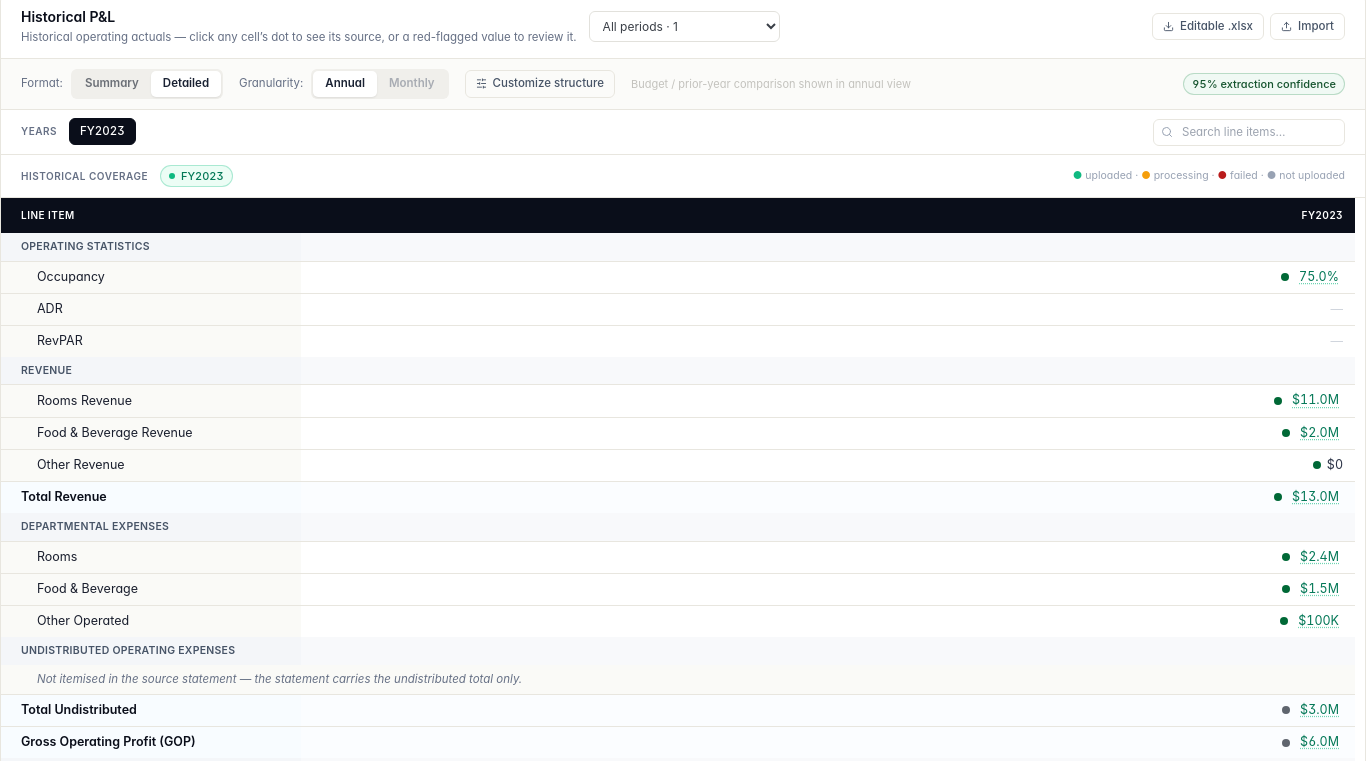
Historicals worksheet — a $5 Rooms Revenue correction flows through (E-012) › a large correction is visible in the refreshed cell itself; the stated Total Revenue stays what the statement says and the footing shows the gap
Expected: the text "Total Revenue" shows "$13.0M", [1288,488,1343,507]
Click the button named "Extracted — click to see its source" at (1316, 401), box [1288,391,1343,410]
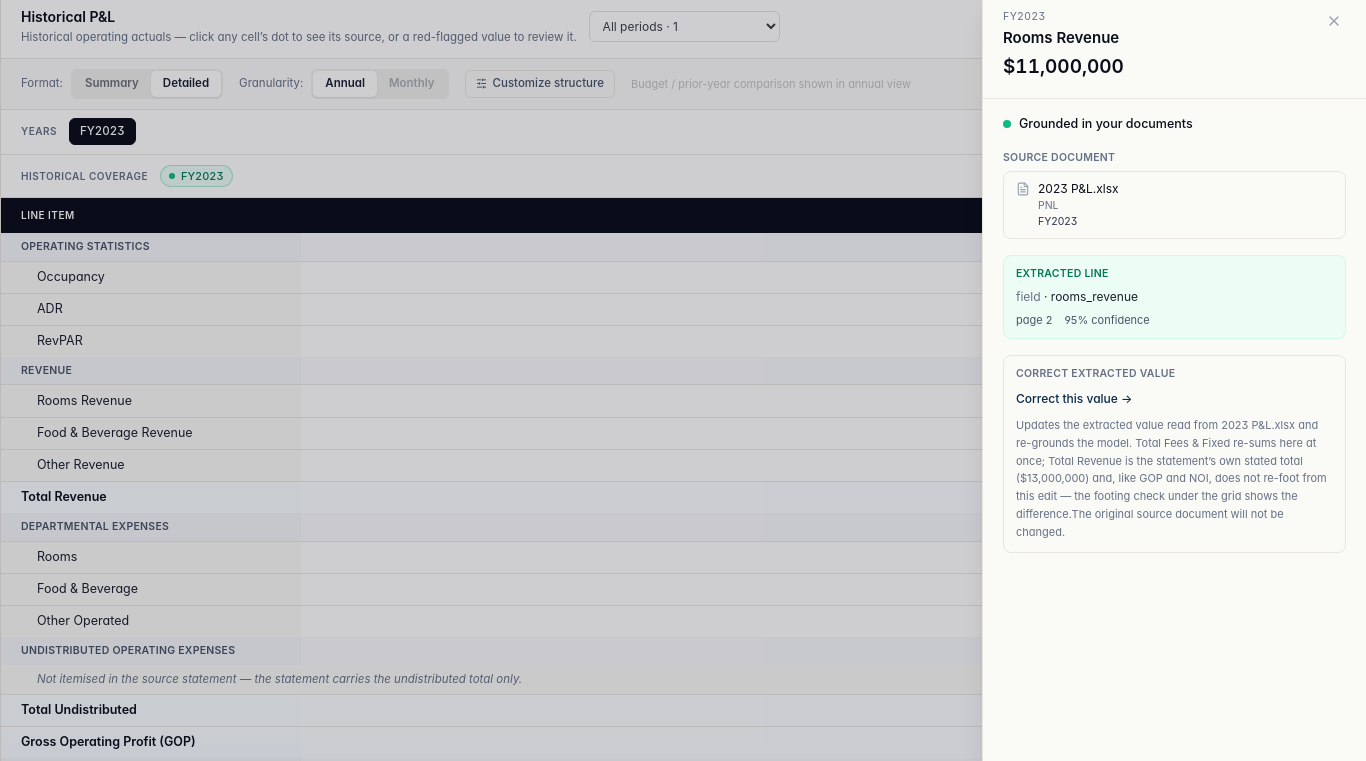
Click the button "Correct this value →" at (1074, 399), box [1016,390,1132,408]
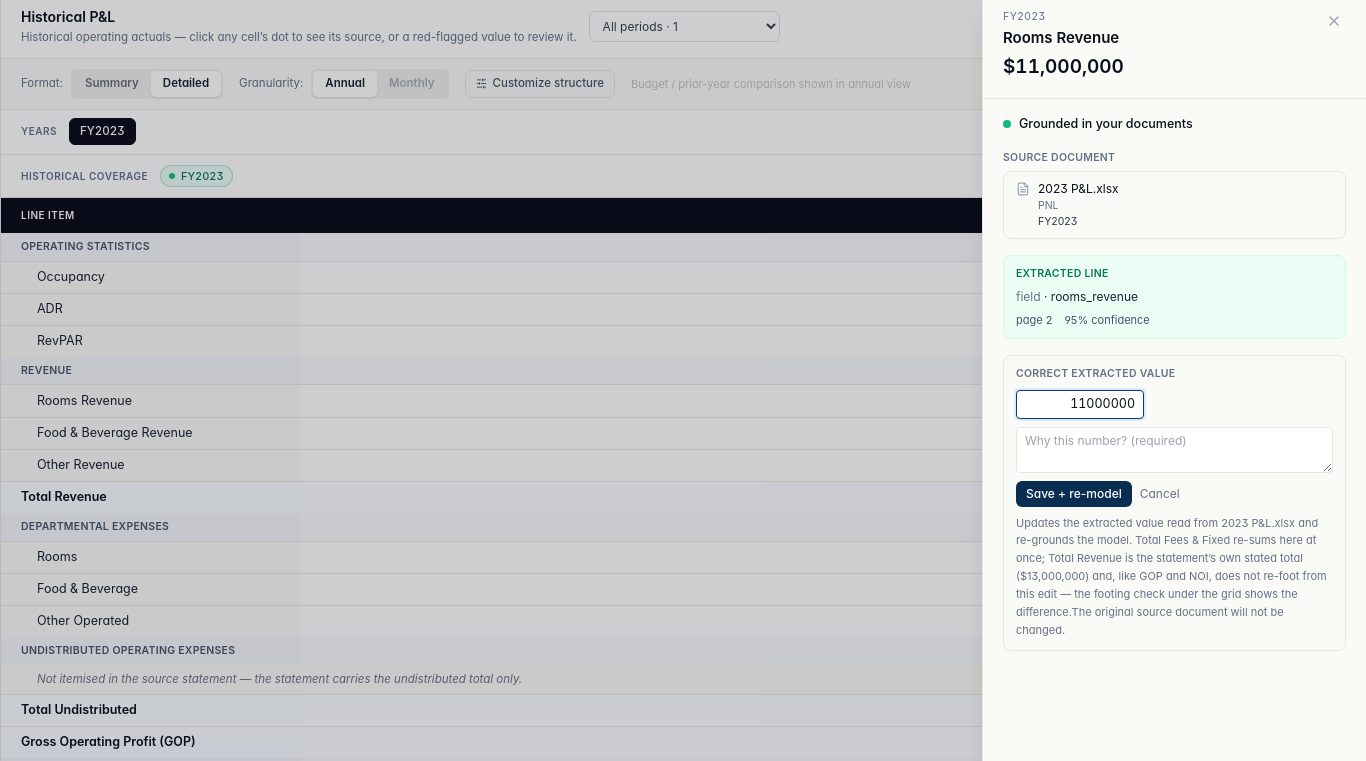
Replace the text in the field with "11500000" at (1080, 404), box [1016,390,1144,419]
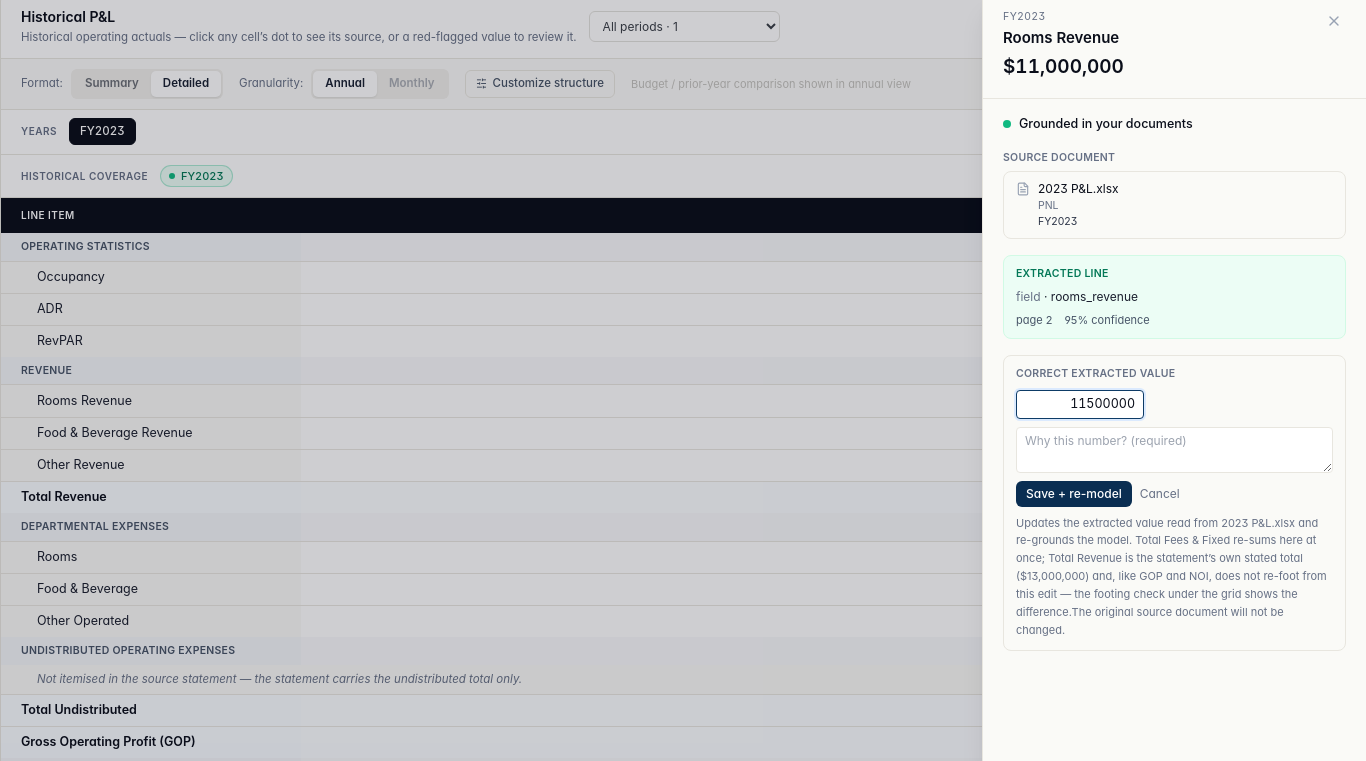
Type "Ledger shows the restated figure" into the text box with test id "field-correction-note" at (1174, 450), box [1016,426,1333,472]
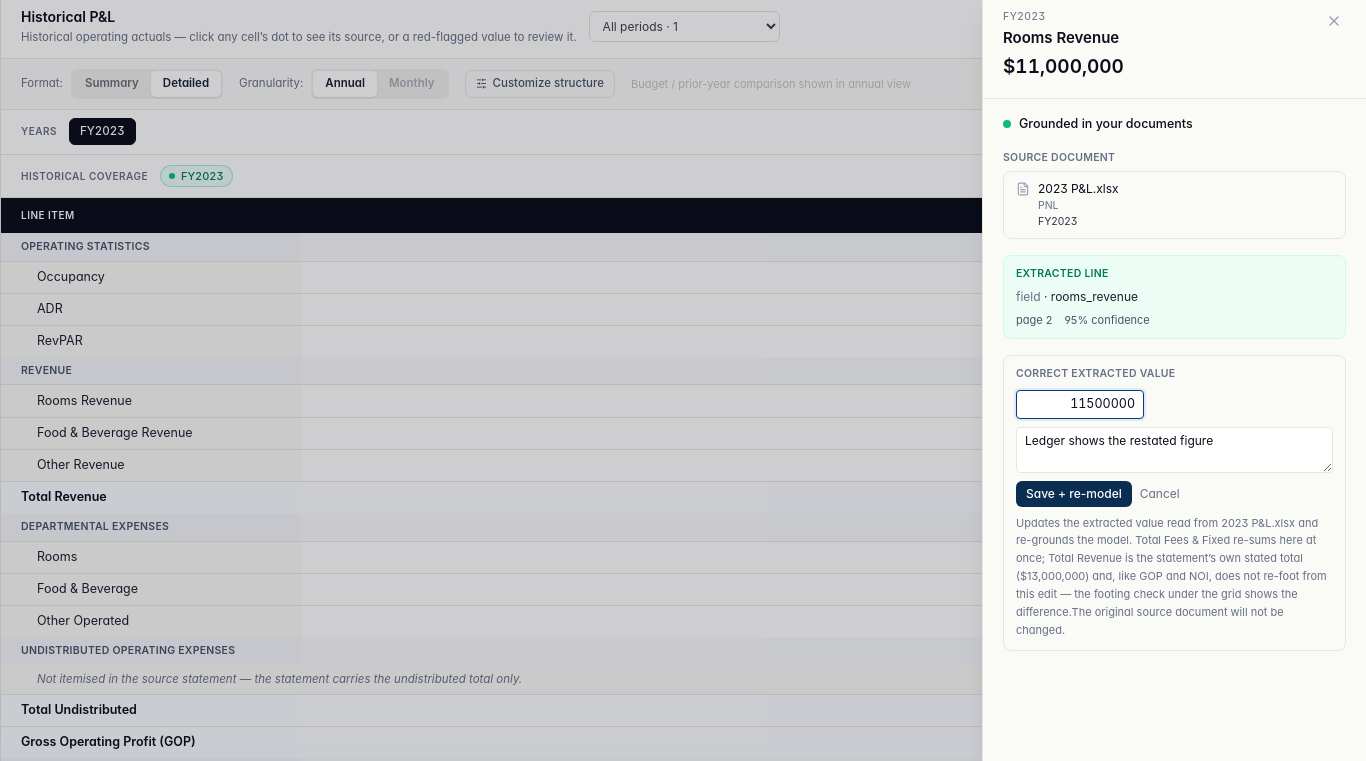
Click the button "Save + re-model" at (1074, 494), box [1016,480,1132,506]
(page scrolled)
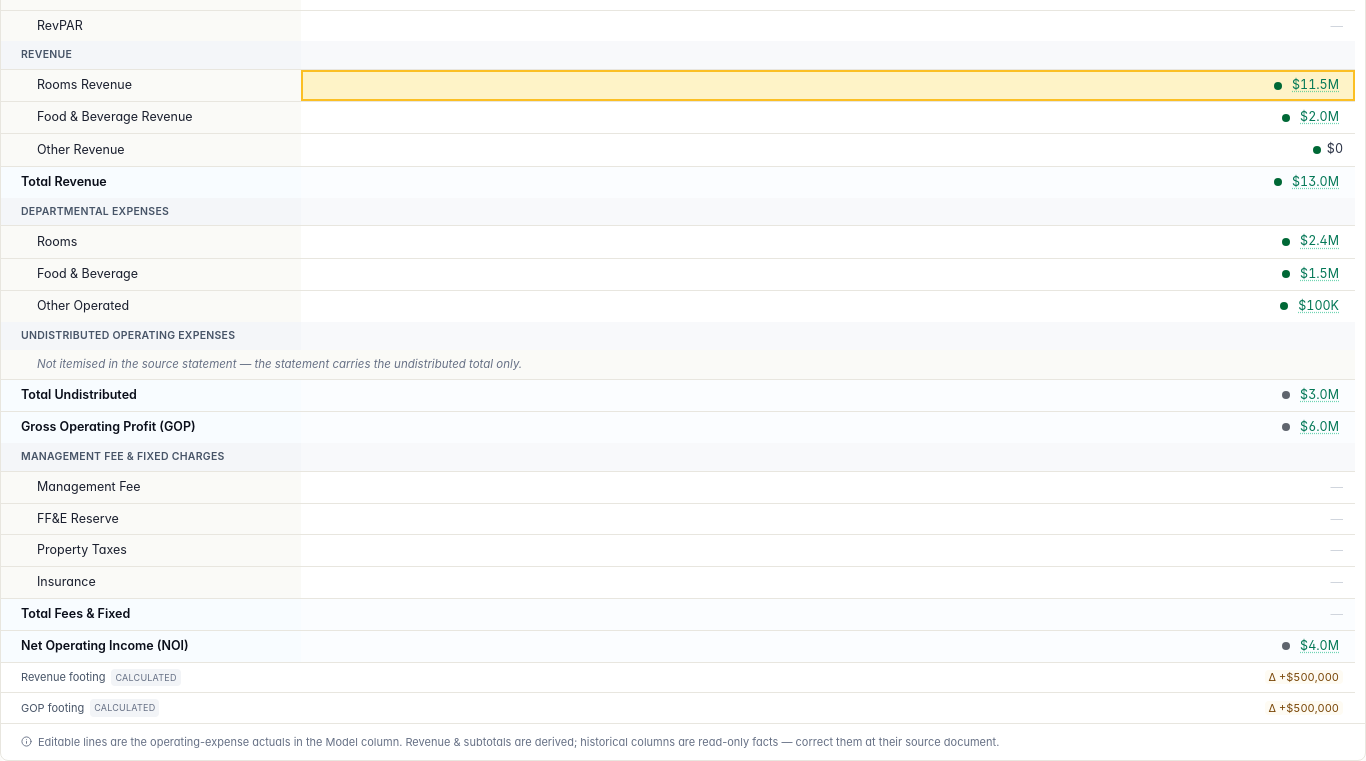
Expected: the text "Total Revenue" shows "$13.0M", [1288,172,1343,191]
Expected: the button named "Extracted — click to see its source" reads "$11.5M", [1288,76,1343,95]
Expected: the text "Δ +$500,000" in the row of "Revenue footing" is shown, [1269,670,1339,684]
